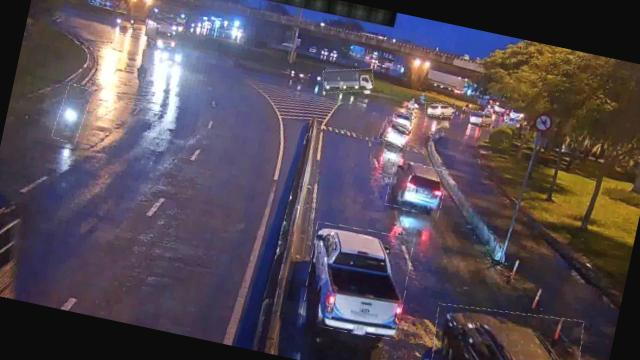Bike: (54, 82, 92, 144)
Car: (298, 219, 417, 342), (422, 294, 588, 360), (384, 159, 448, 216), (378, 116, 413, 149), (424, 99, 456, 120), (469, 110, 494, 126), (392, 109, 412, 128)
Truck: (321, 61, 376, 98)
